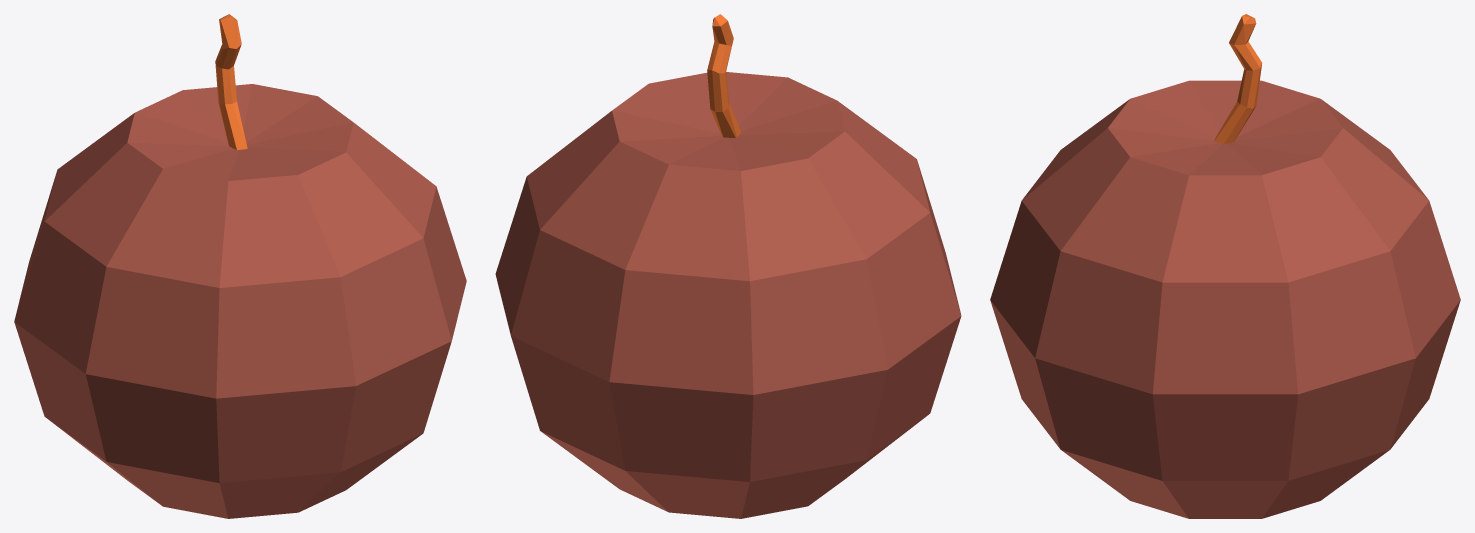
Rendered from fruit07.fbx.
3 views of the same model, side by side, from view 1: azimuth 30°, elevation 25°; view 2: azimuth 150°, elevation 25°; view 3: azimuth 270°, elevation 25° (orthographic). The views are drawn at different scales.
Visible parts, largest first — view 1: Plane.001; view 2: Plane.001; view 3: Plane.001.
Part boxes in pixels (x1=…): Plane.001: x1=14, y1=14, x2=466, y2=518; Plane.001: x1=495, y1=14, x2=961, y2=518; Plane.001: x1=990, y1=14, x2=1460, y2=518.
Size of the model in its own units: 0.1633 by 0.1941 by 0.1717.
